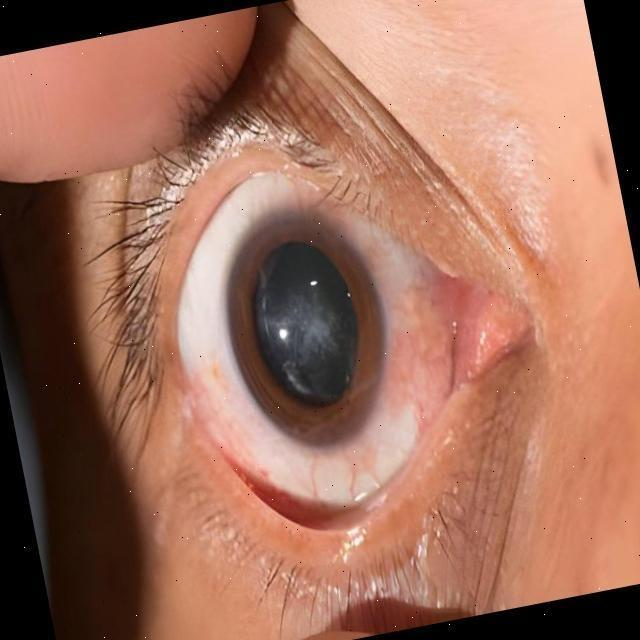Cataract: (196, 195, 420, 482)
